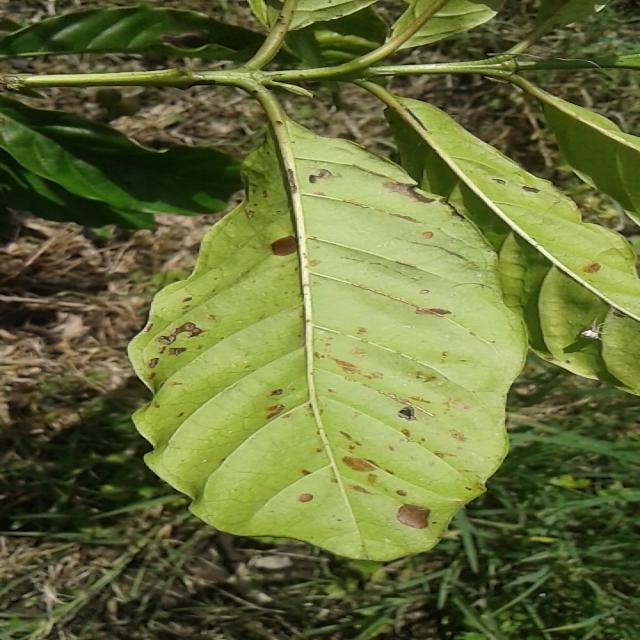Plaga-AranaRoja: (127, 102, 530, 566)
